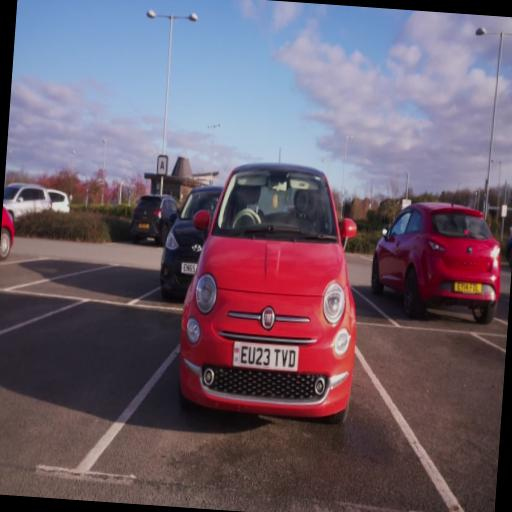numberplates: (232, 341, 300, 373)
